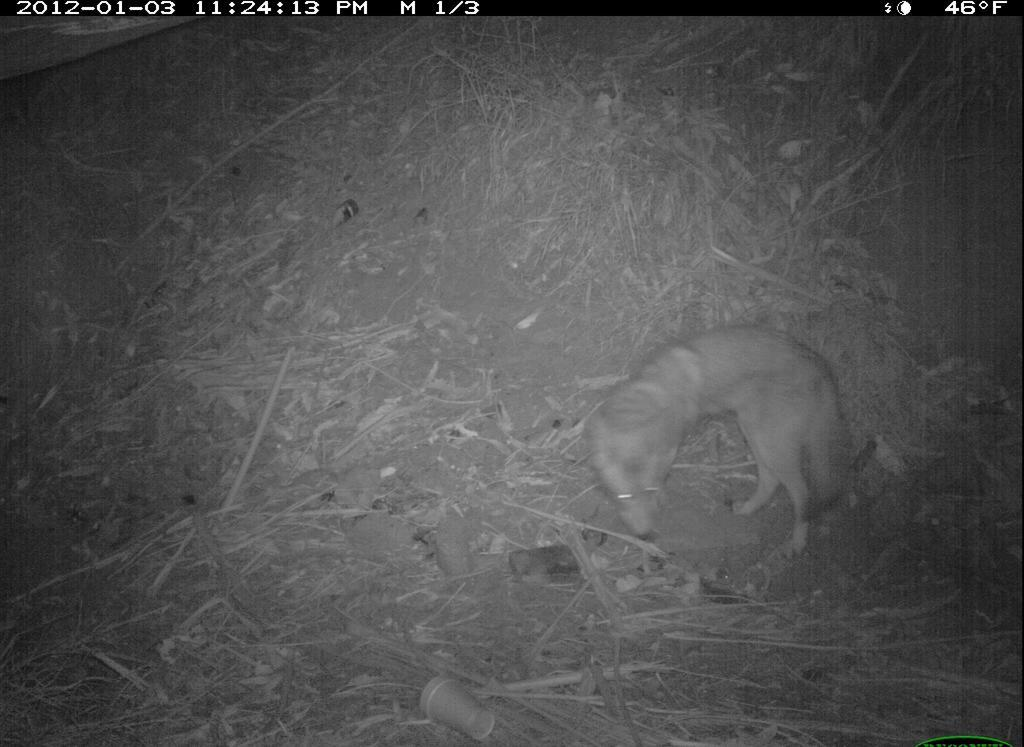coyote: (565, 323, 893, 559)
